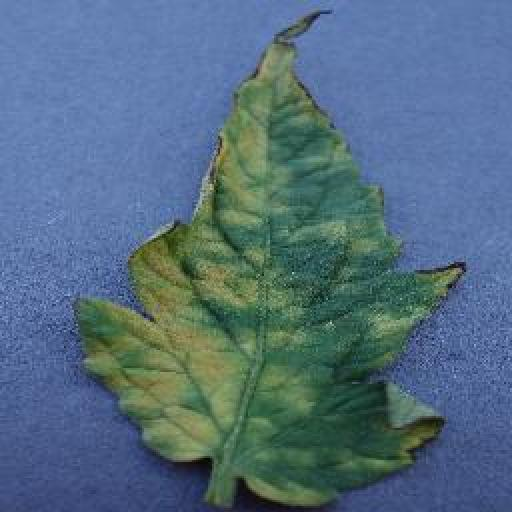Leaf Mold: (72, 6, 468, 512)
